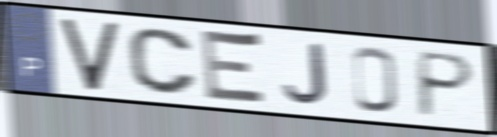0: (350, 45, 400, 114)
C: (125, 26, 201, 98)
E: (200, 26, 270, 110)
J: (280, 42, 331, 107)
P: (414, 49, 478, 120)
V: (57, 18, 122, 93)
